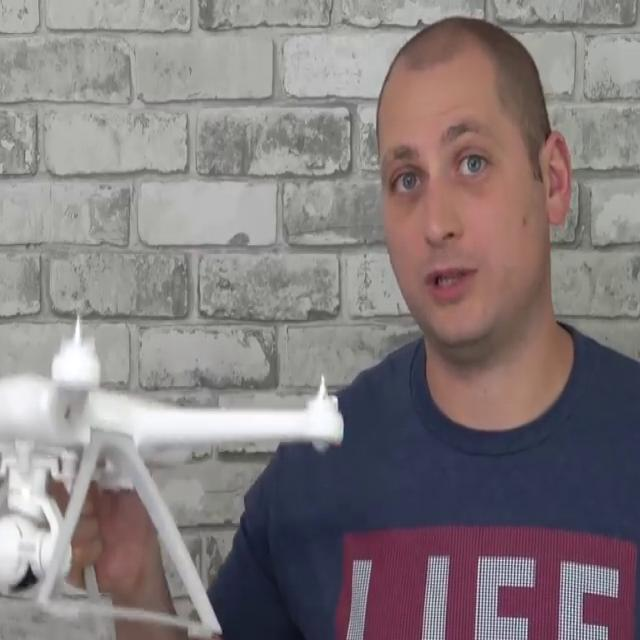drone: (0, 324, 359, 548)
